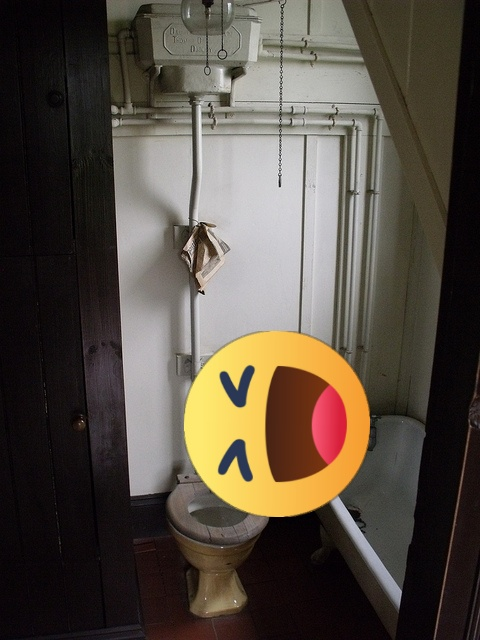haha: (184, 331, 370, 517)
